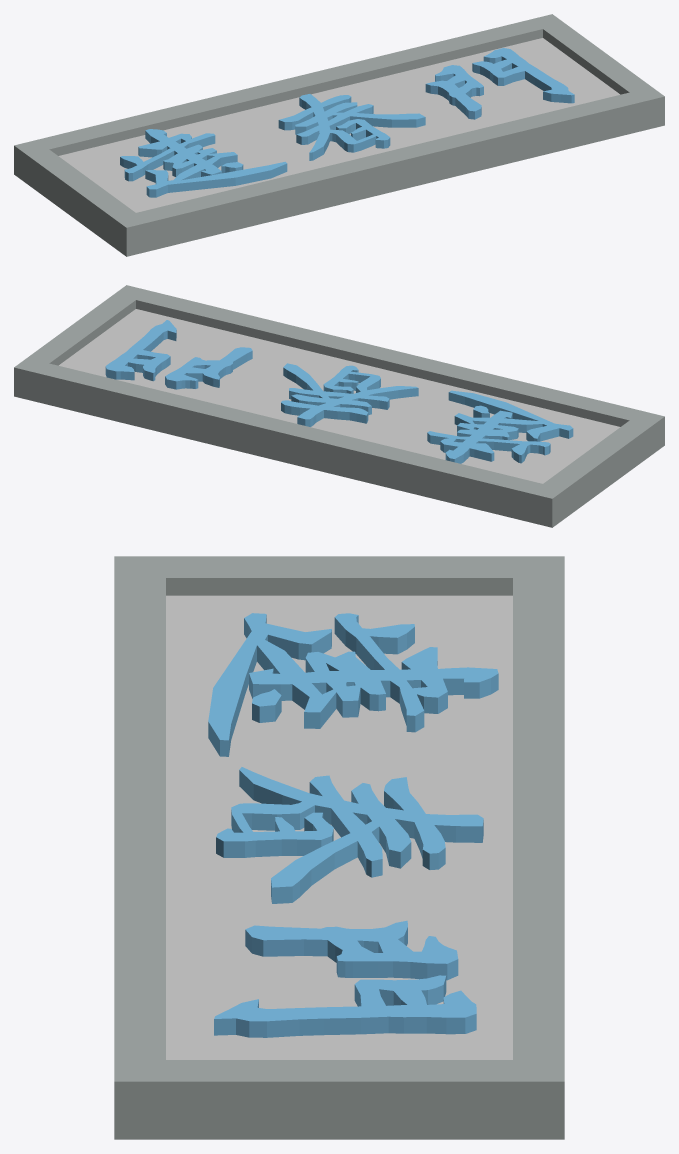
Rendered from Plaque.fbx.
The picture shows the model from 3 angles, top to bottom: view 1: azimuth 30°, elevation 25°; view 2: azimuth 150°, elevation 25°; view 3: azimuth 270°, elevation 25°; orthographic projection. The views are drawn at different scales.
Parts seen in each view (by area): view 1: Cube, 平面1, 平面; view 2: Cube, 平面1, 平面; view 3: Cube, 平面1, 平面.
Part boxes in pixels (<box>): Cube: <box>14,14,664,256</box>; 平面1: <box>120,94,425,197</box>; 平面: <box>425,48,574,119</box>; Cube: <box>14,285,664,527</box>; 平面1: <box>281,363,573,463</box>; 平面: <box>105,320,252,389</box>; Cube: <box>114,556,564,1139</box>; 平面1: <box>208,613,498,903</box>; 平面: <box>214,920,476,1037</box>.
Size of the model in its own units: 506 by 26.07 by 183.
